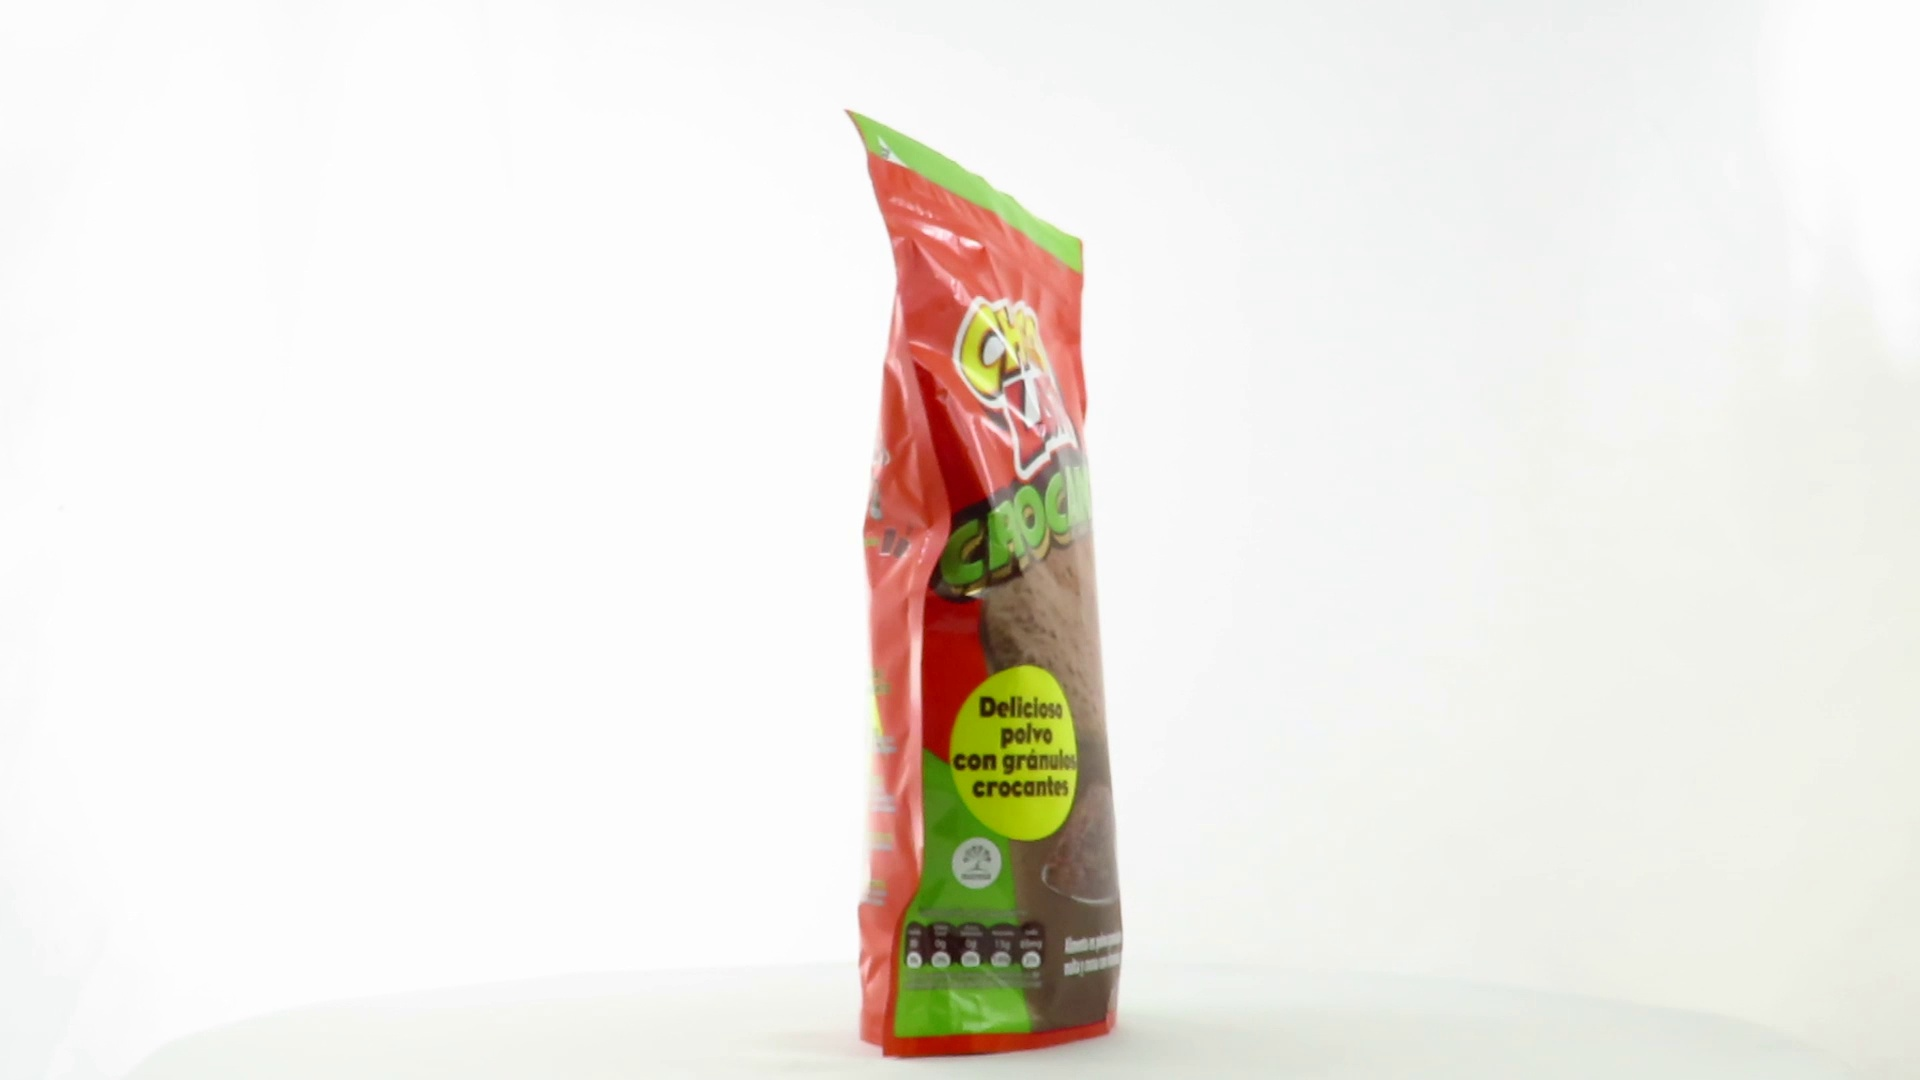COL0170102DYP50000: (839, 104, 1129, 1065)
